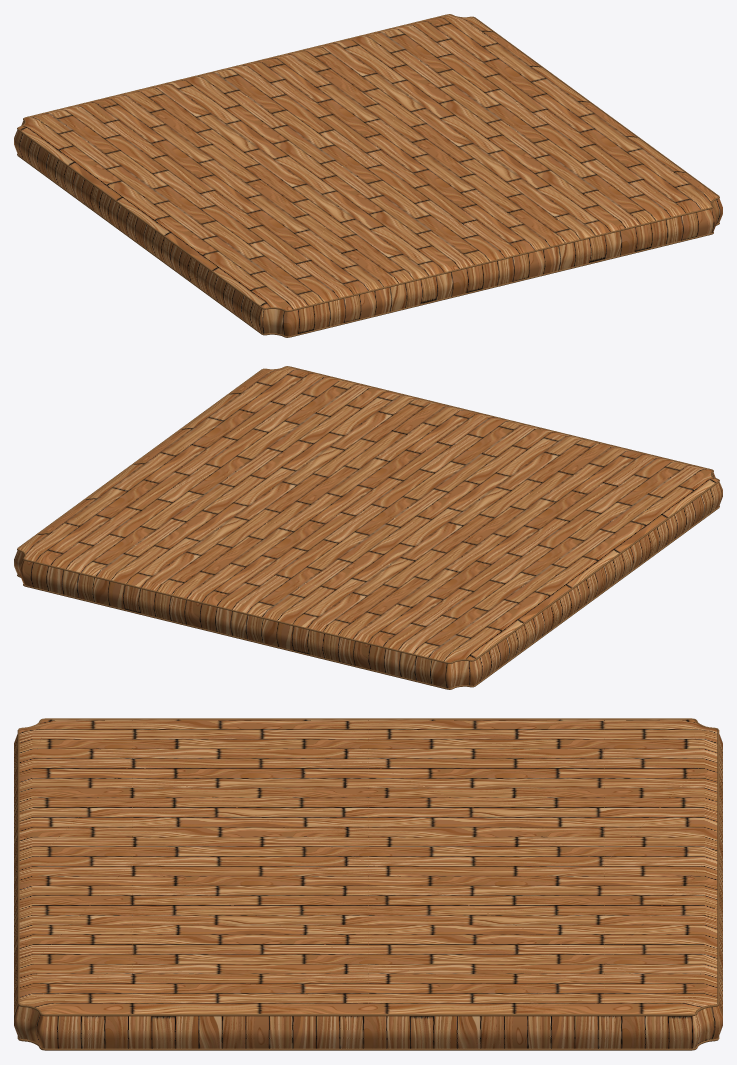
The model's file is SM_FoamFloor_3x3.fbx.
The picture shows the model from 3 angles, top to bottom: view 1: azimuth 30°, elevation 25°; view 2: azimuth 150°, elevation 25°; view 3: azimuth 270°, elevation 25°; orthographic projection. The views are drawn at different scales.
Visible parts, largest first — view 1: SM_SoftFoam_Floor_20cm_3x3; view 2: SM_SoftFoam_Floor_20cm_3x3; view 3: SM_SoftFoam_Floor_20cm_3x3.
Part boxes in pixels (x1,y1,x2,y2): SM_SoftFoam_Floor_20cm_3x3: (14,14,722,337); SM_SoftFoam_Floor_20cm_3x3: (14,366,722,689); SM_SoftFoam_Floor_20cm_3x3: (14,718,722,1050).
Bounding box in the file's own units: 300 × 20 × 300.
